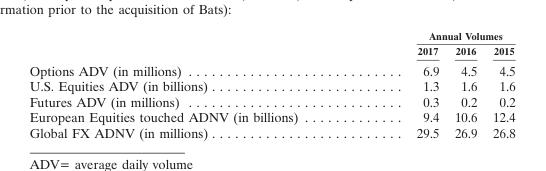table: (28, 29, 514, 140)
table column: (28, 29, 356, 140), (356, 29, 446, 140), (446, 29, 484, 140), (484, 29, 514, 140)
table column header: (28, 29, 514, 59)
table row: (28, 59, 514, 78), (28, 42, 514, 59), (28, 93, 514, 109), (28, 124, 514, 140), (28, 78, 514, 93), (28, 109, 514, 124), (28, 29, 514, 42)
table spanning cell: (356, 29, 514, 42)
